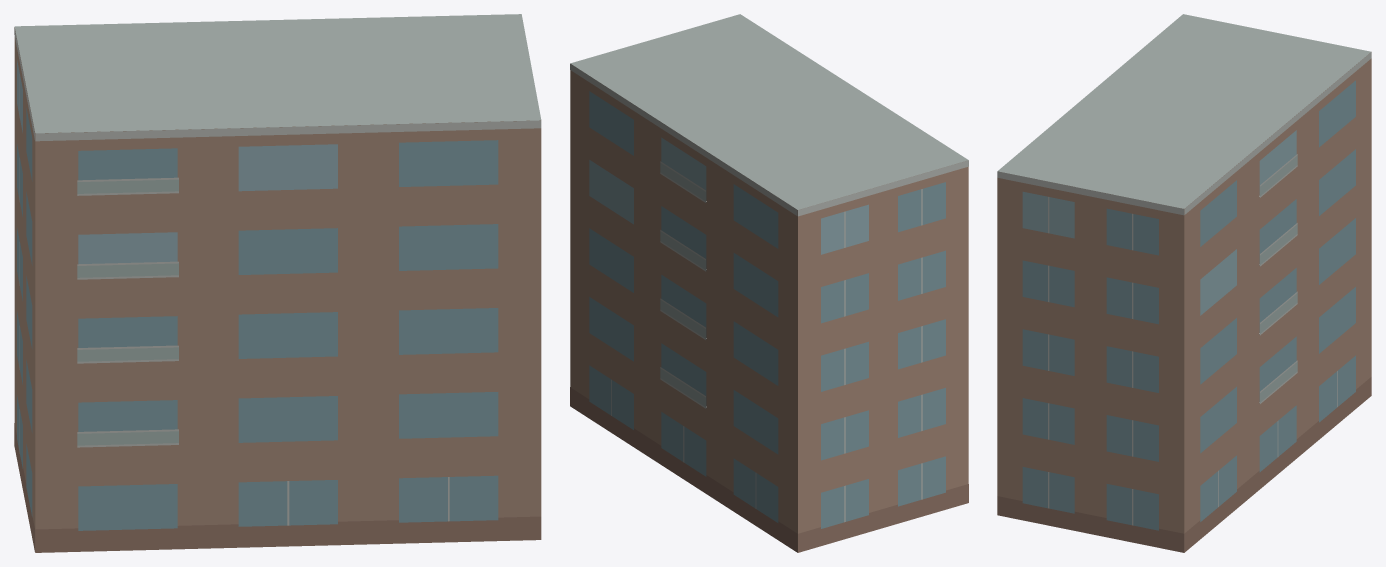
File: survey-upis-32890113.glb
The picture shows the model from 3 angles, left to right: view 1: azimuth 30°, elevation 25°; view 2: azimuth 150°, elevation 25°; view 3: azimuth 270°, elevation 25°; orthographic projection. The views are drawn at different scales.
Visible parts, largest first — view 1: survey-upis-32890113.tmp; view 2: survey-upis-32890113.tmp; view 3: survey-upis-32890113.tmp.
Part boxes in pixels (x1=…): survey-upis-32890113.tmp: x1=14, y1=14, x2=541, y2=552; survey-upis-32890113.tmp: x1=570, y1=14, x2=968, y2=552; survey-upis-32890113.tmp: x1=997, y1=14, x2=1371, y2=552.
Bounding box in the file's own units: 15.75 × 12.95 × 12.78.
